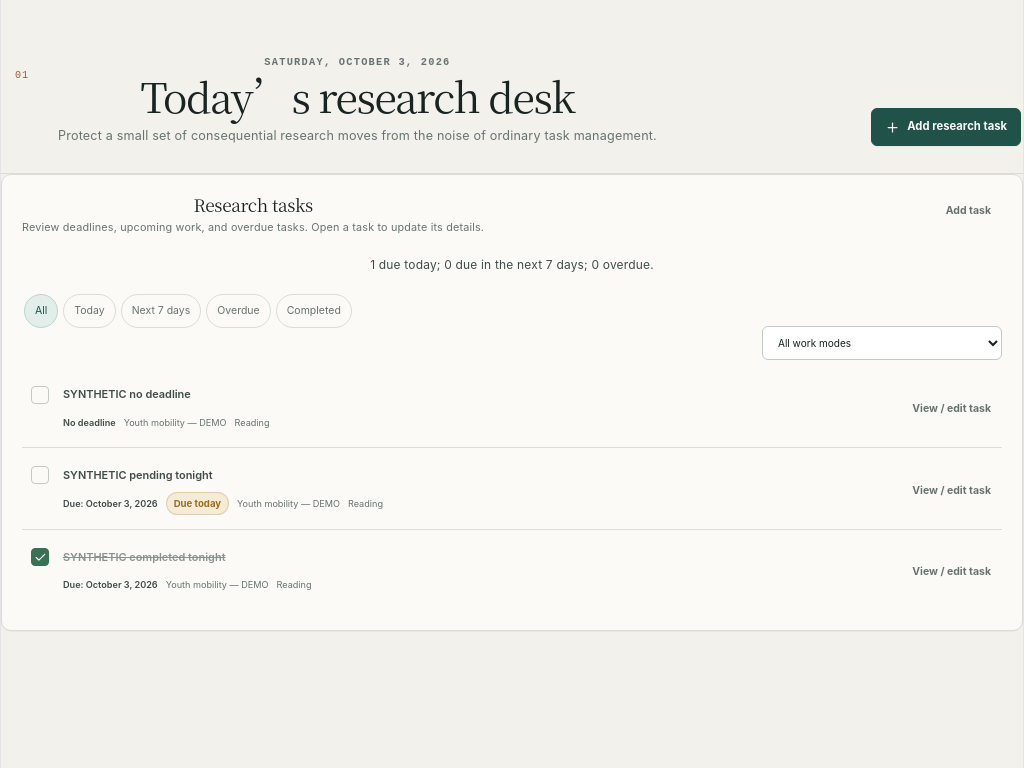
Test case: TodayPage theory work mode › refreshes the header, deadline summary and open task view at midnight without writing or losing edits
Expected: the text with class "eyebrow" shows "October 3, 2026", [264,56,450,68]
Expected: the text "Due today" is shown, [166,492,229,515]
Click the button with aria-label "View and edit SYNTHETIC completed tonight".
click(952, 572)  # box [901,556,1002,588]
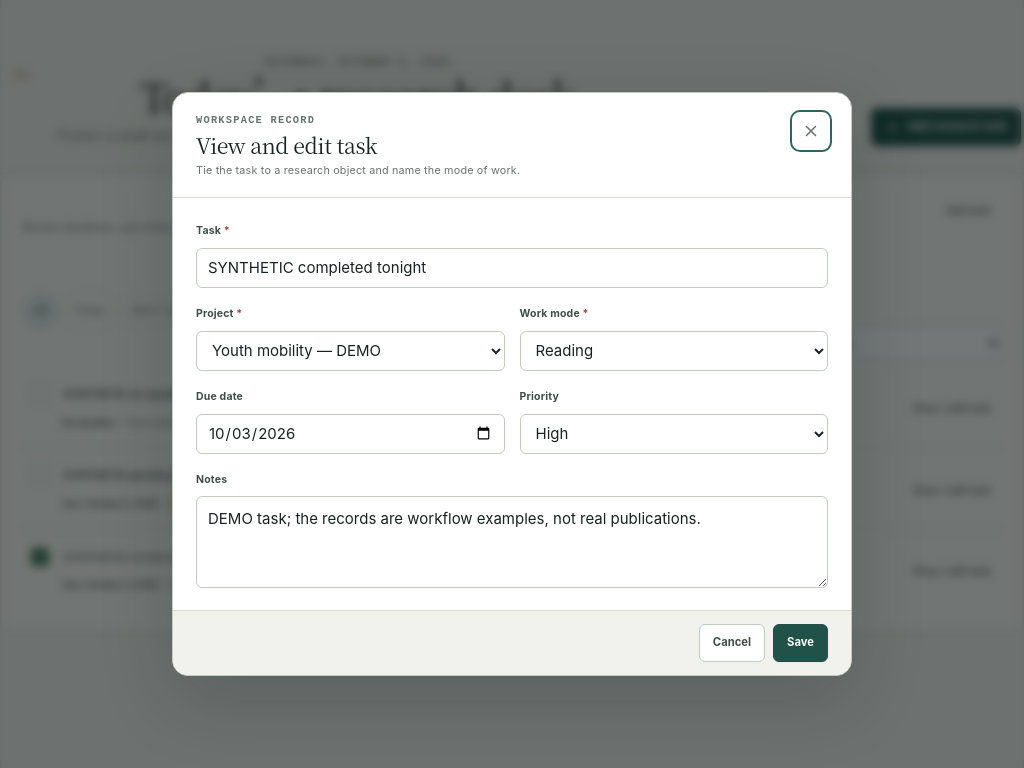
Replace the text in the text box labelled "Notes" with "SYNTHETIC unsaved midnight notes" at (512, 542), box [196,496,828,588]
Wait 2000 ms
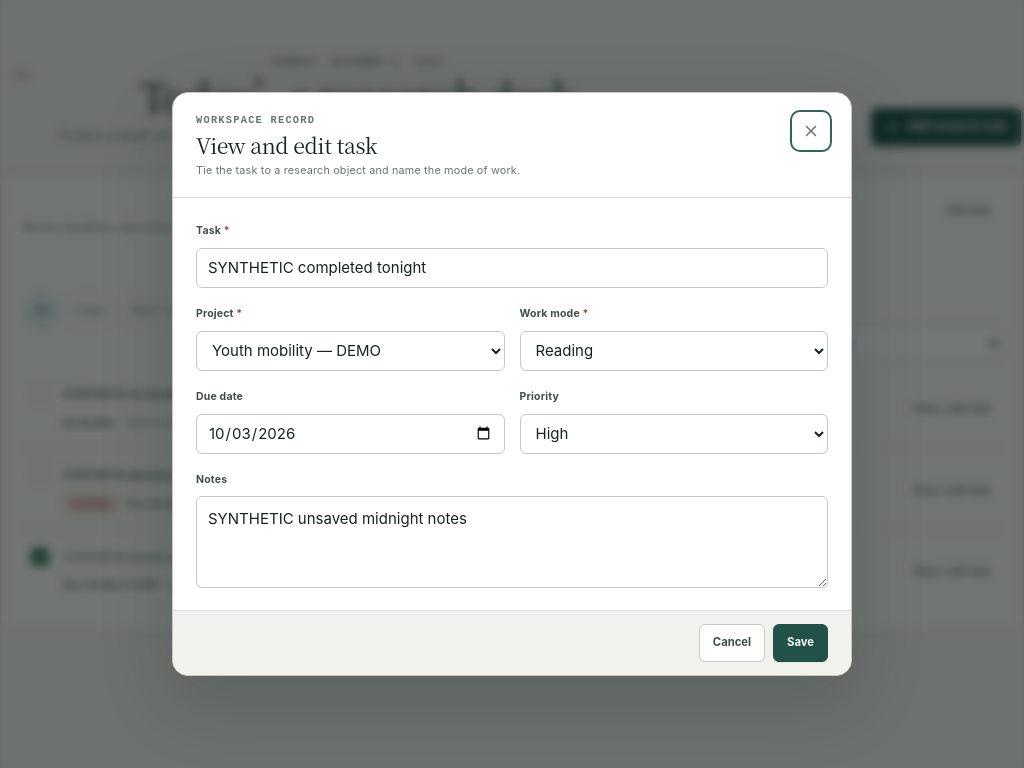
Expected: the text with class "task-deadline-summary" shows "0 due today", [370,257,654,272]
Now the date field labelled "Due date" holds "2026-10-03", box [196,414,504,454]
Now the text "1 days overdue" is shown, box [230,492,316,515]
